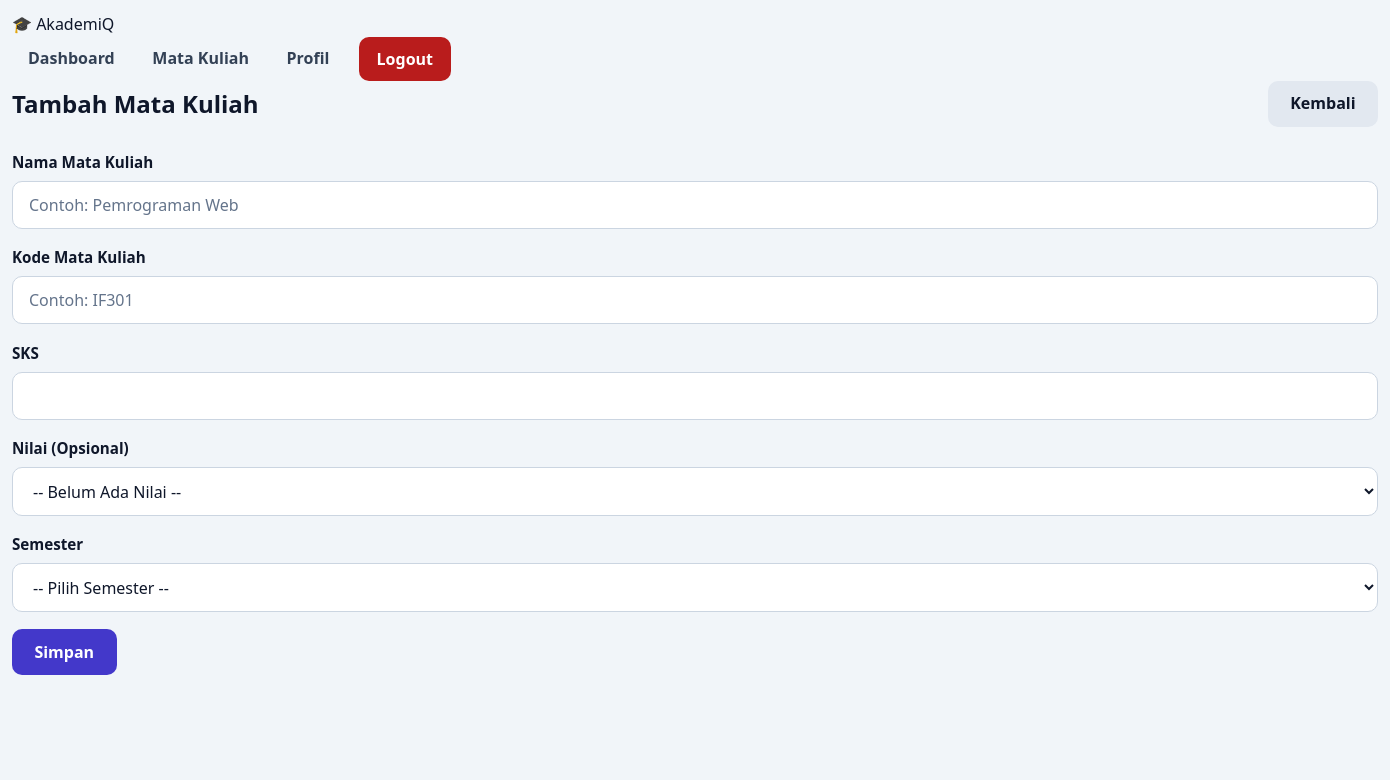
Test: TambahMatakuliah › menampilkan pesan error dari server
Type "Pemrograman Web" into the field labelled "Nama Mata Kuliah" at (695, 205), box [12,181,1378,229]
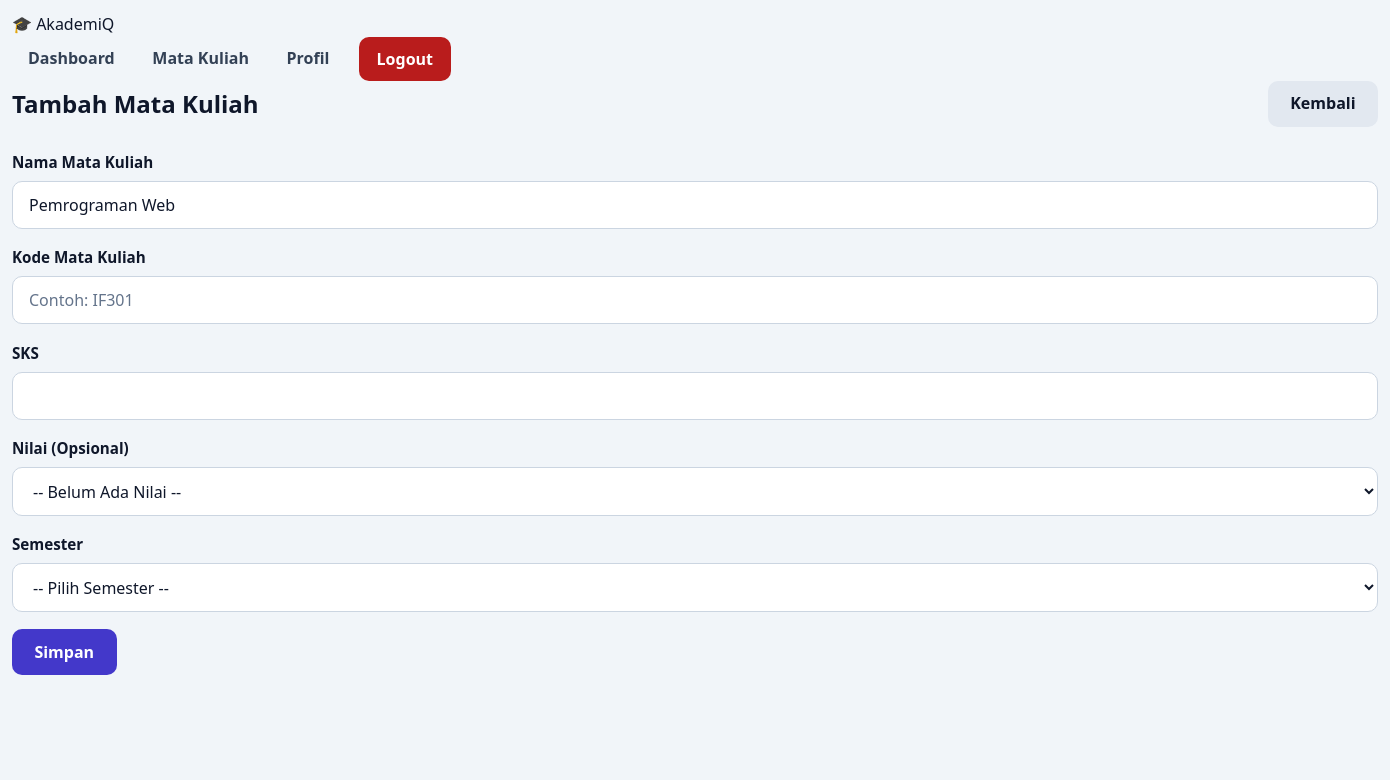
Type "IF301" into the field labelled "Kode Mata Kuliah" at (695, 300), box [12,276,1378,324]
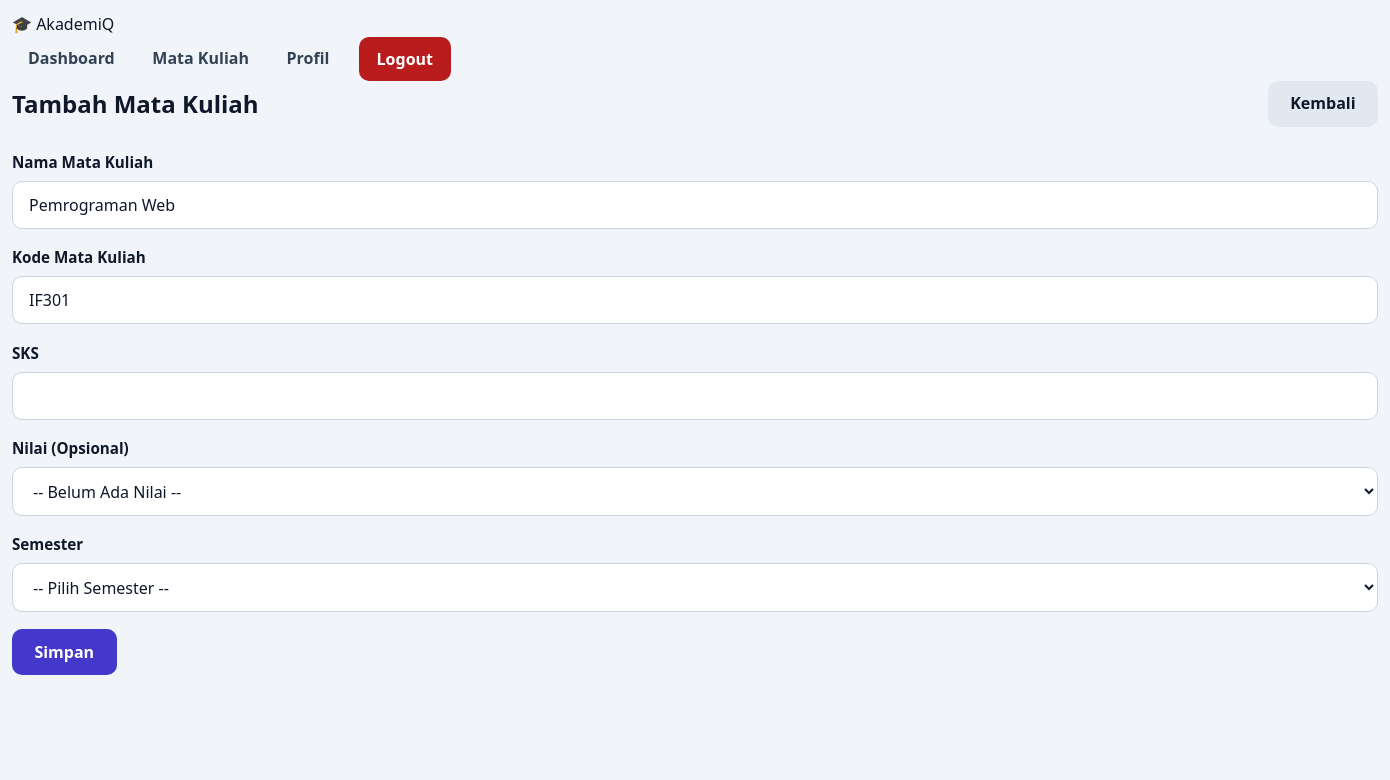
Type "3" into the number field labelled "SKS" at (695, 396), box [12,372,1378,420]
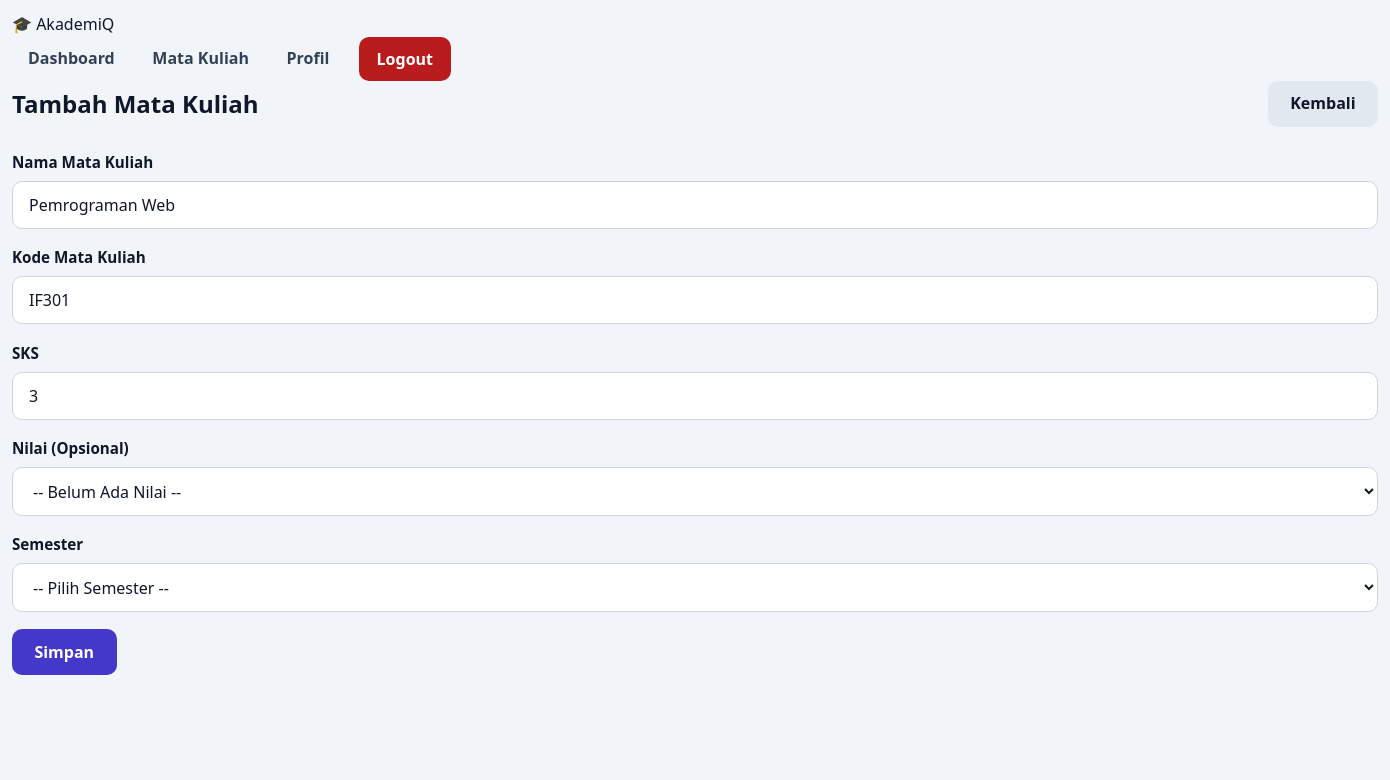
Select "A" in the dropdown labelled "Nilai (Opsional)" at (695, 492), box [12,467,1378,516]
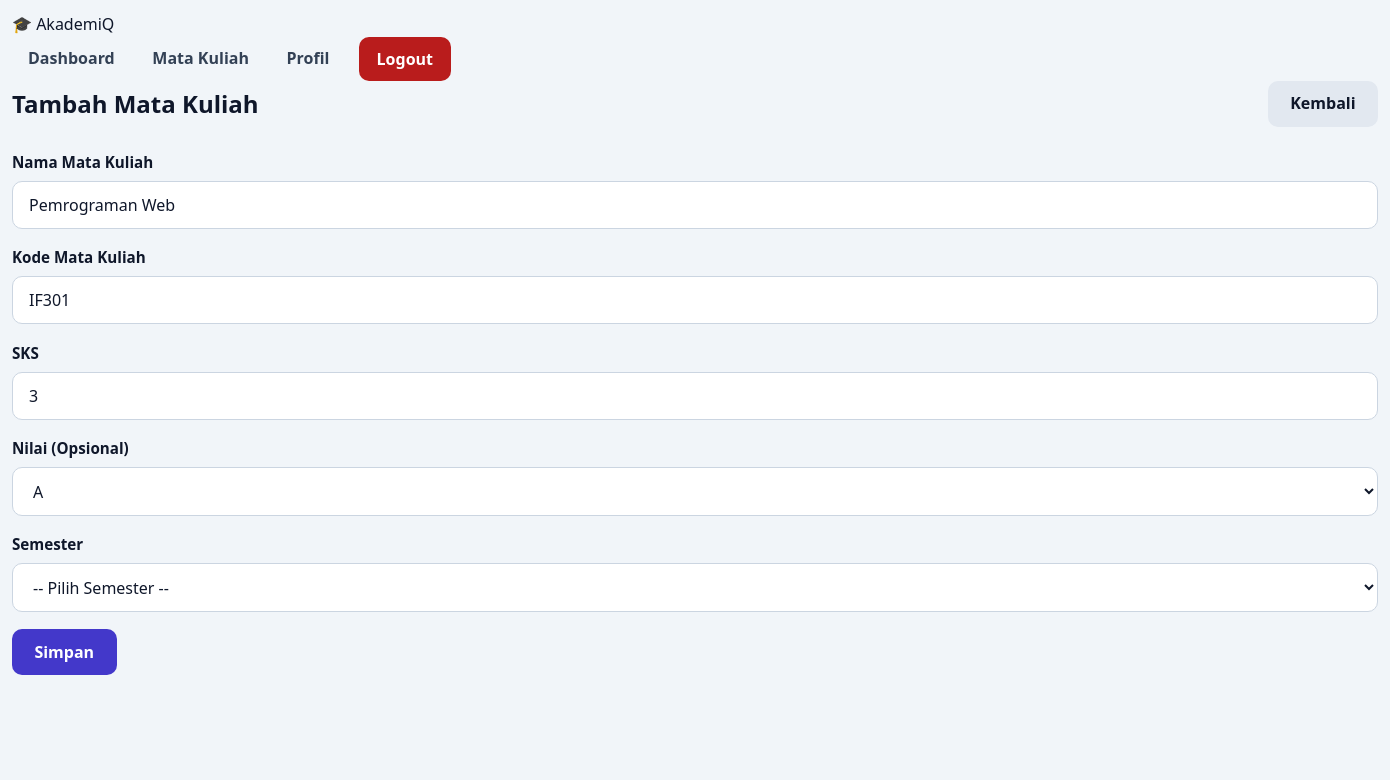
Select "Semester 5" in the dropdown labelled "Semester" at (695, 588), box [12,563,1378,612]
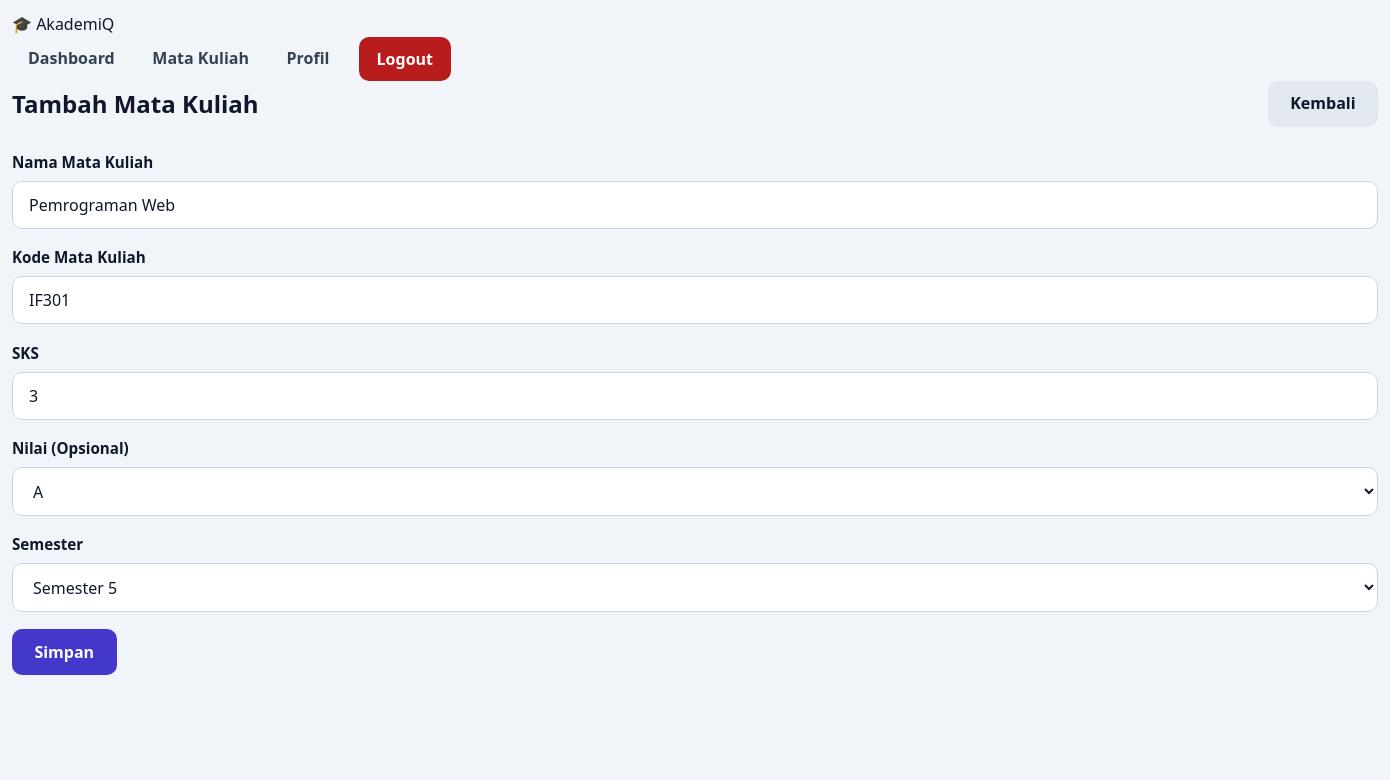
Submit the form "Simpan"
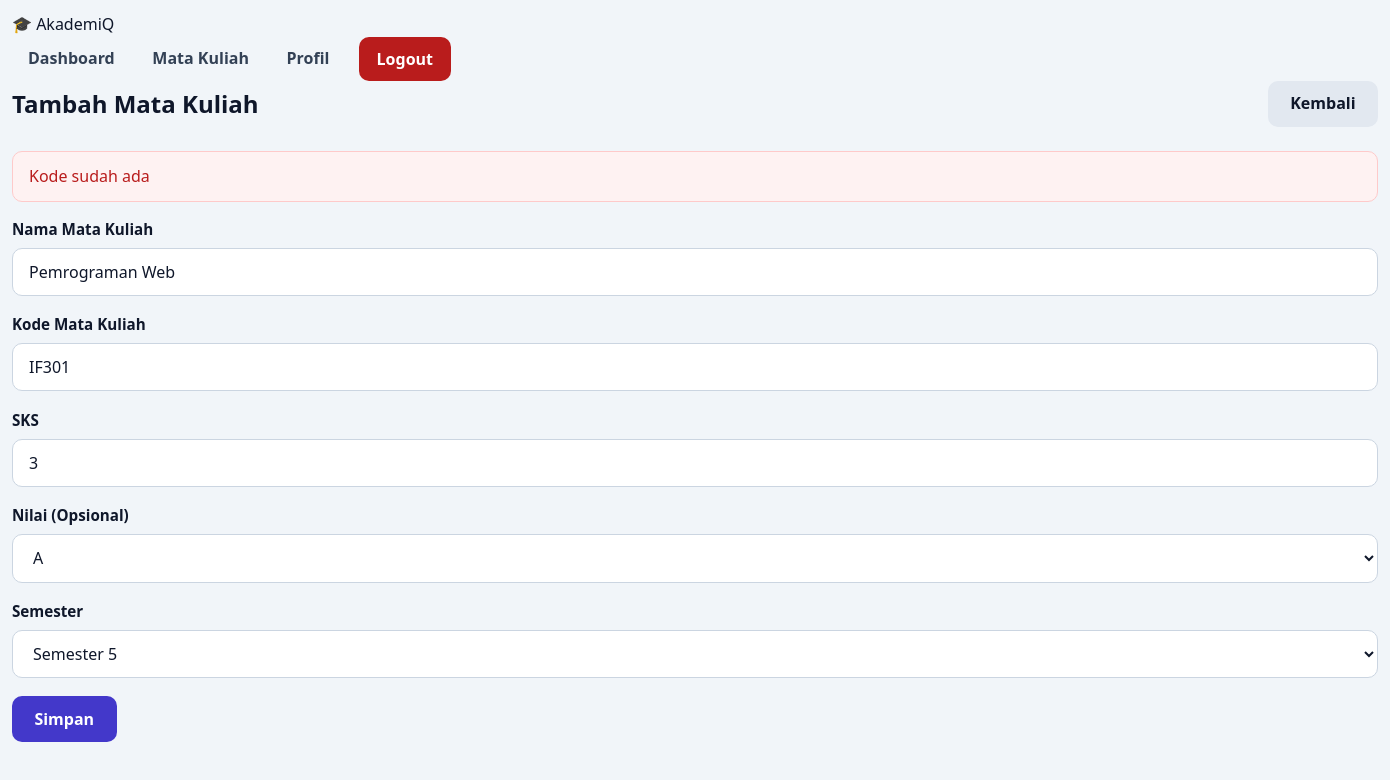
Now the text "Kode sudah ada" is shown, box [12,151,1378,202]
